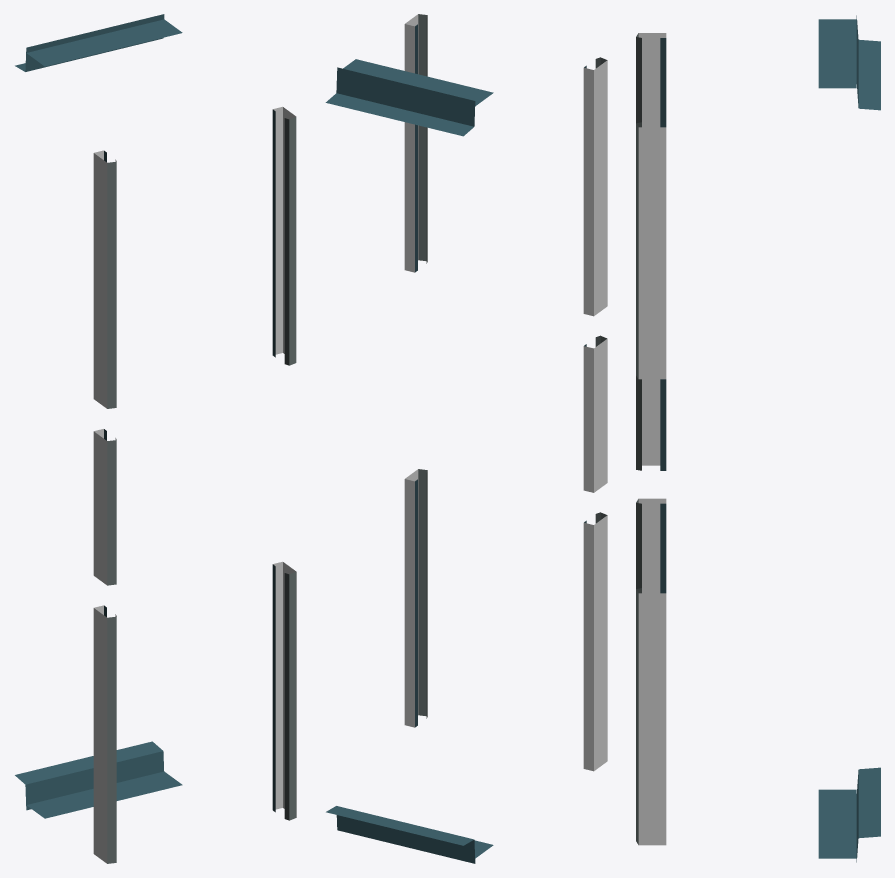
Rendered from SM_000236_w40h003_001roka_wall03_lv2.fbx.
The picture shows the model from 3 angles, left to right: view 1: azimuth 30°, elevation 25°; view 2: azimuth 150°, elevation 25°; view 3: azimuth 270°, elevation 25°; orthographic projection. The views are drawn at different scales.
Parts seen in each view (by area): view 1: SM_000236.001; view 2: SM_000236.001; view 3: SM_000236.001.
Boxes of the visible parts, box(x1,y1,x2,y2) form: SM_000236.001: box(15, 14, 296, 863); SM_000236.001: box(325, 14, 607, 863); SM_000236.001: box(636, 15, 880, 862).
Size of the model in its own units: 3.7 by 14.26 by 4.05.
